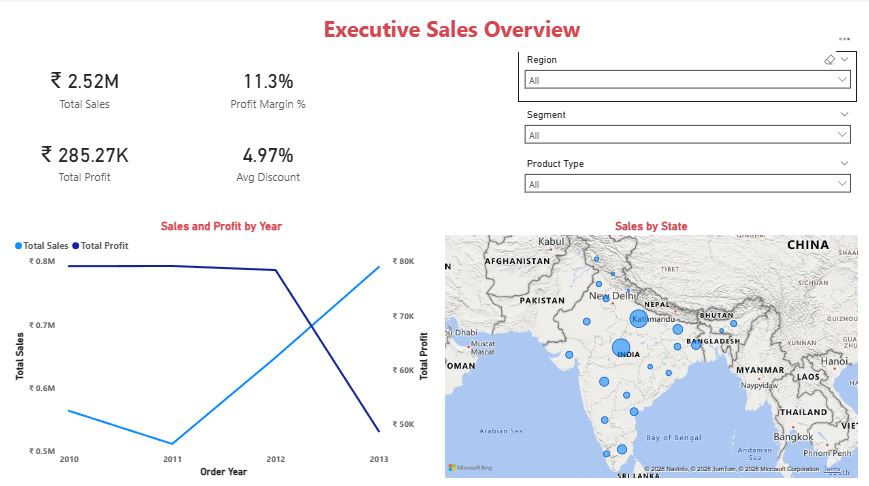

The dashboard page shown, as its layout file describes it:
{"tool":"powerbi","page":{"name":"Overview","canvas":[1280,720],"ordinal":0},"visuals":[{"type":"lineChart","title":"Sales and Profit by Year","fields":{"Y":["Measure.Total Sales"],"Y2":["Measure.Total Profit"],"Category":["Dim_Date.Year"]},"box":[19.1,324.7,618.6,385],"z":0},{"type":"map","title":"Sales by State","fields":{"Category":["Dim_Geography.State"],"Size":["Measure.Total Sales"]},"box":[652.4,324.7,615.7,385],"z":1000},{"type":"card","fields":{"Values":["Measure.Total Sales"]},"box":[19.1,89.6,216,82.3],"z":2000},{"type":"card","fields":{"Values":["Measure.Total Profit"]},"box":[19.1,195.4,216,86.7],"z":3000},{"type":"card","fields":{"Values":["Measure.Profit Margin %"]},"box":[286.5,89.6,220.4,82.3],"z":4000},{"type":"card","fields":{"Values":["Measure.Avg Discount"]},"box":[286.5,195.4,220.4,86.7],"z":5000},{"type":"slicer","fields":{"Values":["Dim_Geography.Region"]},"box":[763.9,78.6,499,73.5],"z":6000},{"type":"slicer","fields":{"Values":["Dim_Customer.Segment"]},"box":[763.9,158.9,499,71.8],"z":7000},{"type":"slicer","fields":{"Values":["Dim_Product.Product Type"]},"box":[763.9,230.7,499,71.8],"z":8000},{"type":"textbox","box":[42.7,17.1,1189.4,61.5],"z":9000}]}

Visuals, with their boxes in screenshot pixels (x1, y1, x2, y2), scaled from the page's 1280x720 canvas onto the 869x486 screenshot:
"Sales and Profit by Year" lineChart: [13, 219, 433, 479]
"Sales by State" map: [443, 219, 861, 479]
card - Measure.Total Sales: [13, 60, 160, 116]
card - Measure.Total Profit: [13, 132, 160, 190]
card - Measure.Profit Margin %: [195, 60, 344, 116]
card - Measure.Avg Discount: [195, 132, 344, 190]
slicer - Dim_Geography.Region: [519, 53, 857, 103]
slicer - Dim_Customer.Segment: [519, 107, 857, 156]
slicer - Dim_Product.Product Type: [519, 156, 857, 204]
textbox: [29, 12, 836, 53]
